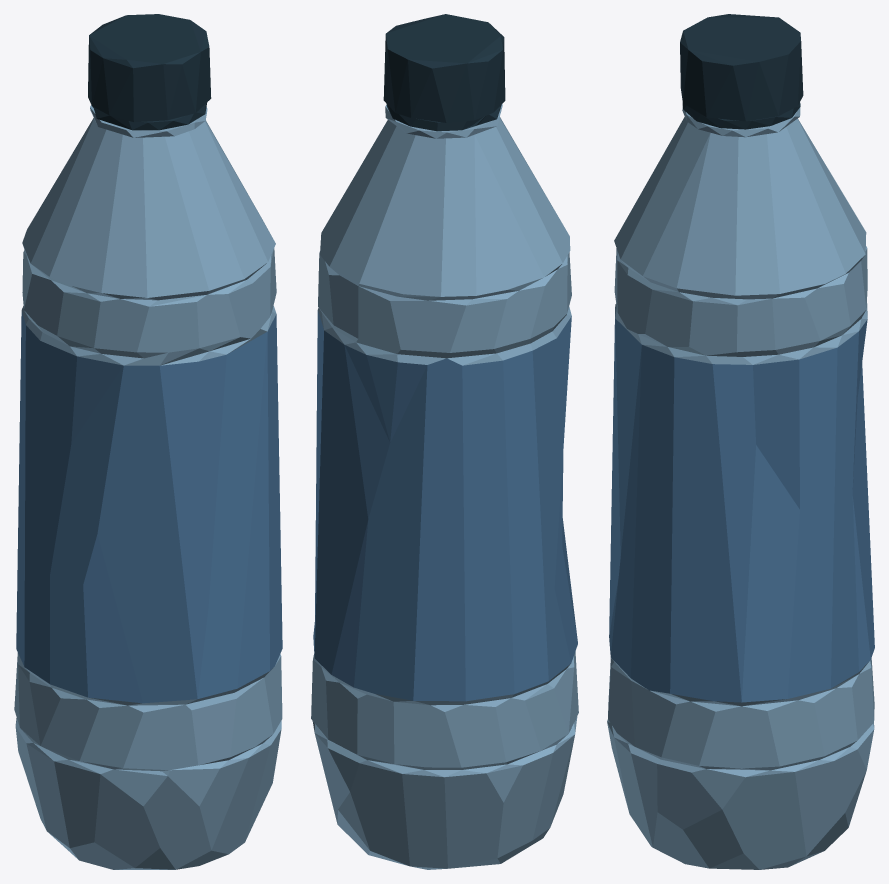
File: PlasticBottle03.fbx
3 renders of one model, left to right at view 1: azimuth 30°, elevation 25°; view 2: azimuth 150°, elevation 25°; view 3: azimuth 270°, elevation 25°, orthographic.
Visible parts, largest first — view 1: PlasticBottle03LowPoly, PlasticBottleLid03LowPoly; view 2: PlasticBottle03LowPoly, PlasticBottleLid03LowPoly; view 3: PlasticBottle03LowPoly, PlasticBottleLid03LowPoly.
Part boxes in pixels (left/top/right/bottom): PlasticBottle03LowPoly: left=14, top=105, right=282, bottom=869; PlasticBottleLid03LowPoly: left=88, top=14, right=211, bottom=130; PlasticBottle03LowPoly: left=311, top=104, right=578, bottom=869; PlasticBottleLid03LowPoly: left=383, top=14, right=505, bottom=131; PlasticBottle03LowPoly: left=607, top=104, right=874, bottom=869; PlasticBottleLid03LowPoly: left=680, top=14, right=803, bottom=129.
Bounding box in the file's own units: 9.36 × 30.56 × 9.3.
